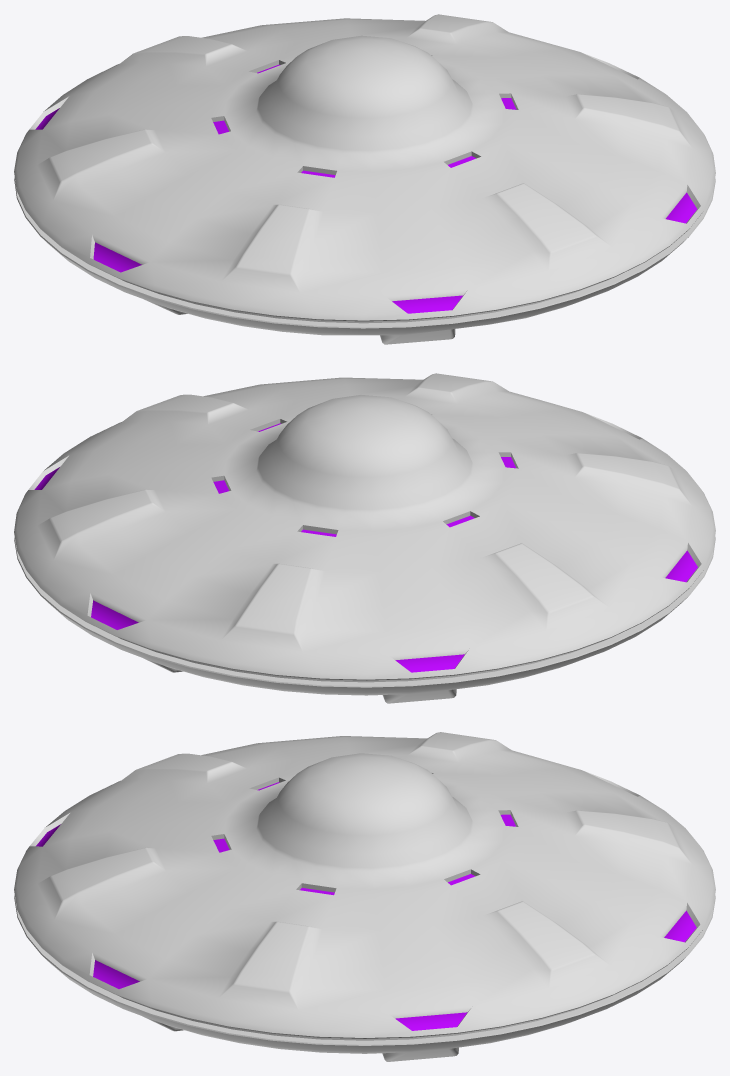
Rendered from ufo.fbx.
3 views of the same model, one above another, from view 1: azimuth 30°, elevation 25°; view 2: azimuth 150°, elevation 25°; view 3: azimuth 270°, elevation 25° (orthographic).
Visible parts, largest first — view 1: UFO; view 2: UFO; view 3: UFO.
Boxes of the visible parts, box(x1,y1,x2,y2) form: UFO: box(14, 14, 715, 344); UFO: box(14, 373, 715, 703); UFO: box(14, 732, 715, 1061).
Size of the model in its own units: 1181 by 460 by 1181.
